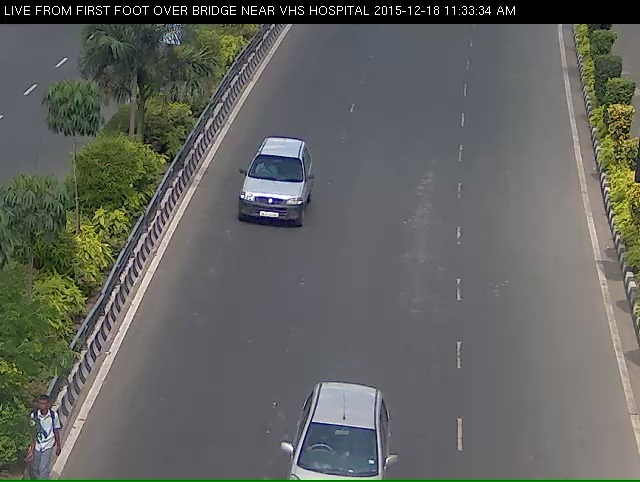Car: (224, 161, 312, 269), (285, 423, 386, 482)
Person: (19, 397, 62, 478)
